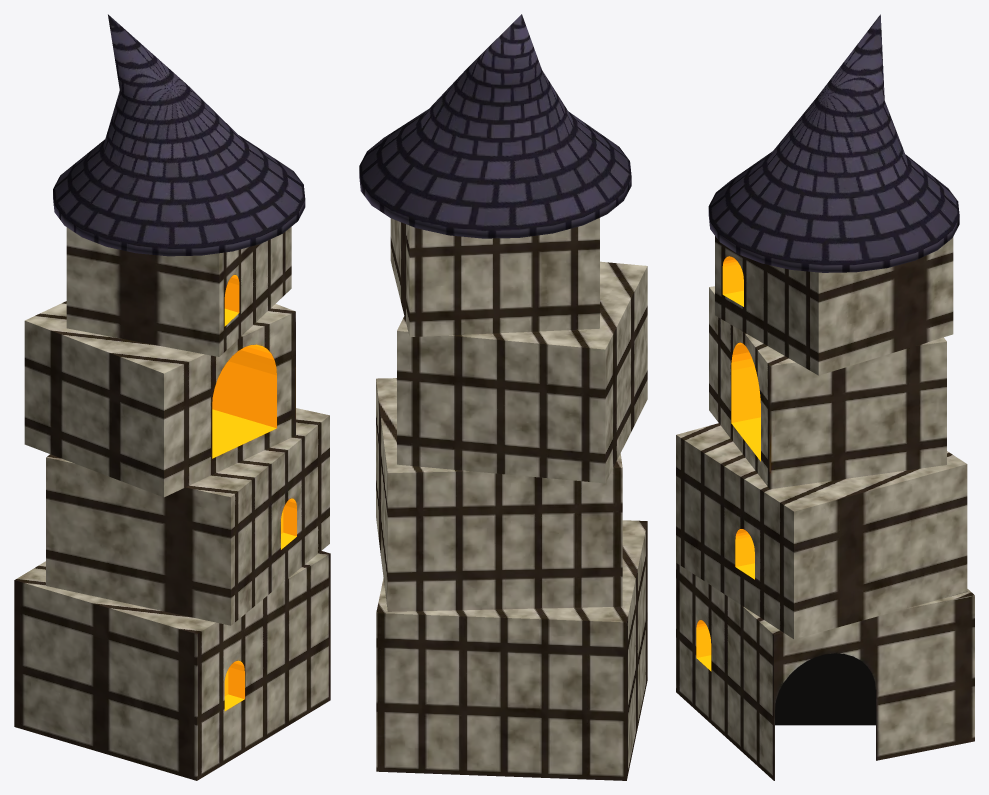
Rendered from crooked-witch-house.glb.
3 views of the same model, side by side, from view 1: azimuth 30°, elevation 25°; view 2: azimuth 150°, elevation 25°; view 3: azimuth 270°, elevation 25° (orthographic). The views are drawn at different scales.
Visible parts, largest first — view 1: house, roof; view 2: house, roof; view 3: house, roof.
Boxes of the visible parts, x1,y1,x2,y2 form: house: [14, 227, 330, 780]; roof: [53, 14, 305, 256]; house: [376, 218, 647, 780]; roof: [359, 14, 631, 238]; house: [676, 236, 974, 780]; roof: [708, 14, 959, 272].
Bounding box in the file's own units: 6.25 × 15 × 5.93.
Materials: 4 (2 with a texture image).
